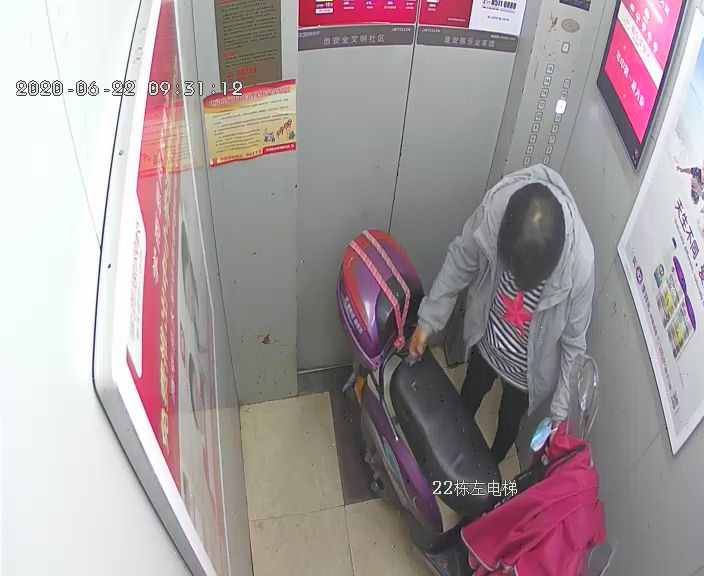Electric-bicycle: (334, 227, 618, 572)
